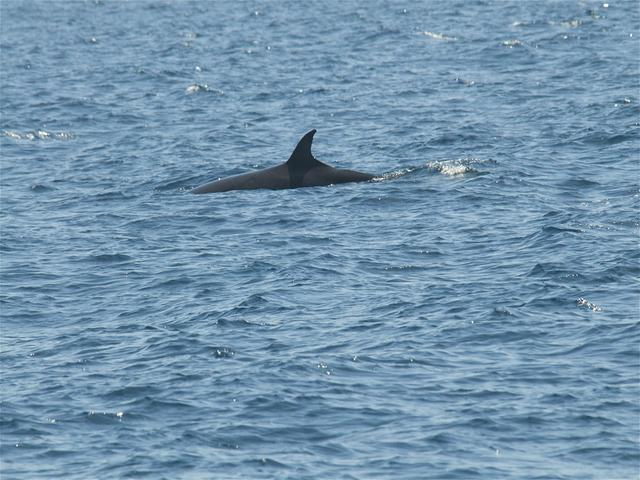dolphin: (155, 107, 429, 201)
